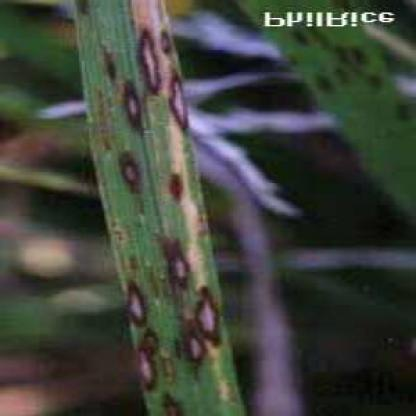Rice blast: (115, 137, 145, 203), (194, 288, 227, 344), (123, 281, 156, 333), (140, 25, 162, 98), (126, 79, 151, 137), (172, 73, 188, 145), (172, 249, 184, 291)
